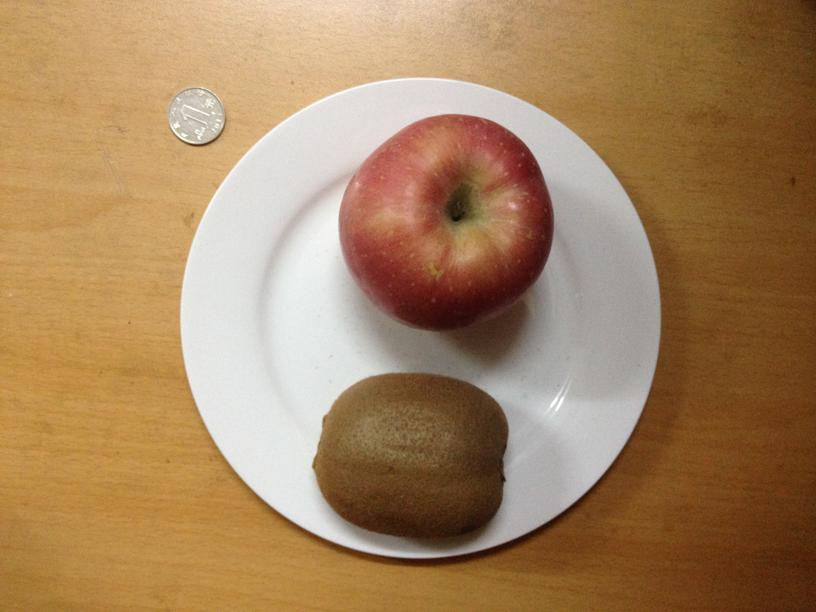apple: (339, 110, 554, 327)
coin: (166, 84, 224, 145)
qiwi: (314, 369, 505, 535)
